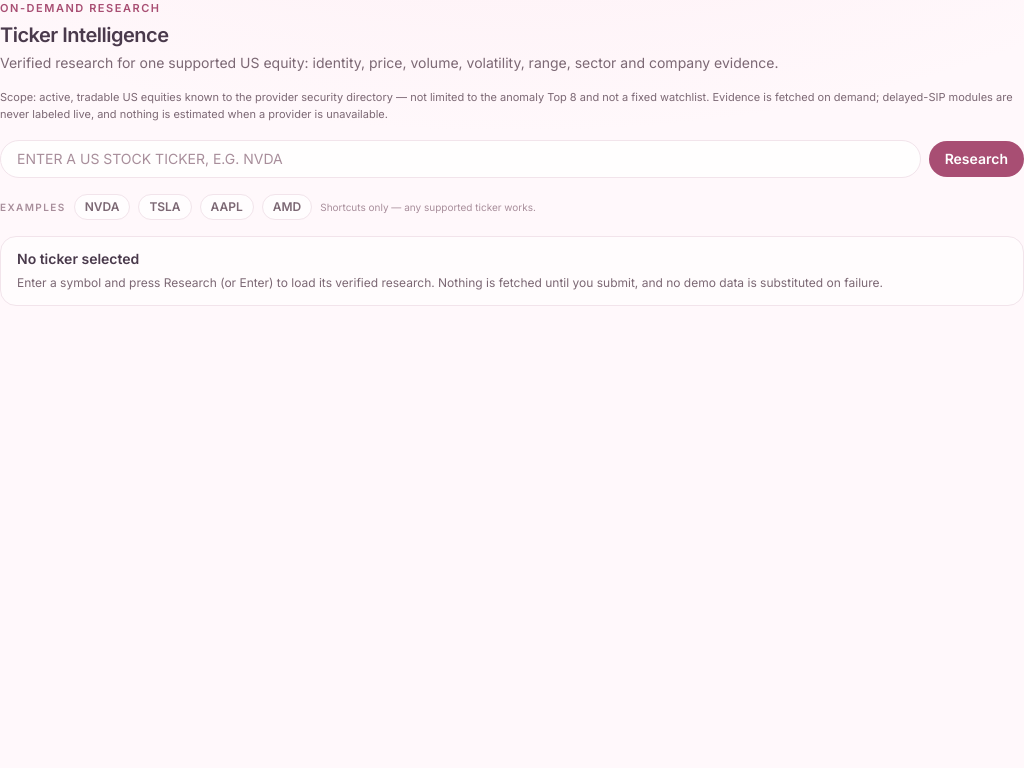
Test case: TickerIntelligence · evidence and warnings › renders the ticker evidence facts with id, domain, freshness and source version
The width and height of the screenshot is (1024, 768).
Type "NVDA" into the field named "US stock ticker symbol". click: (460, 159)
box: [0, 140, 921, 178]
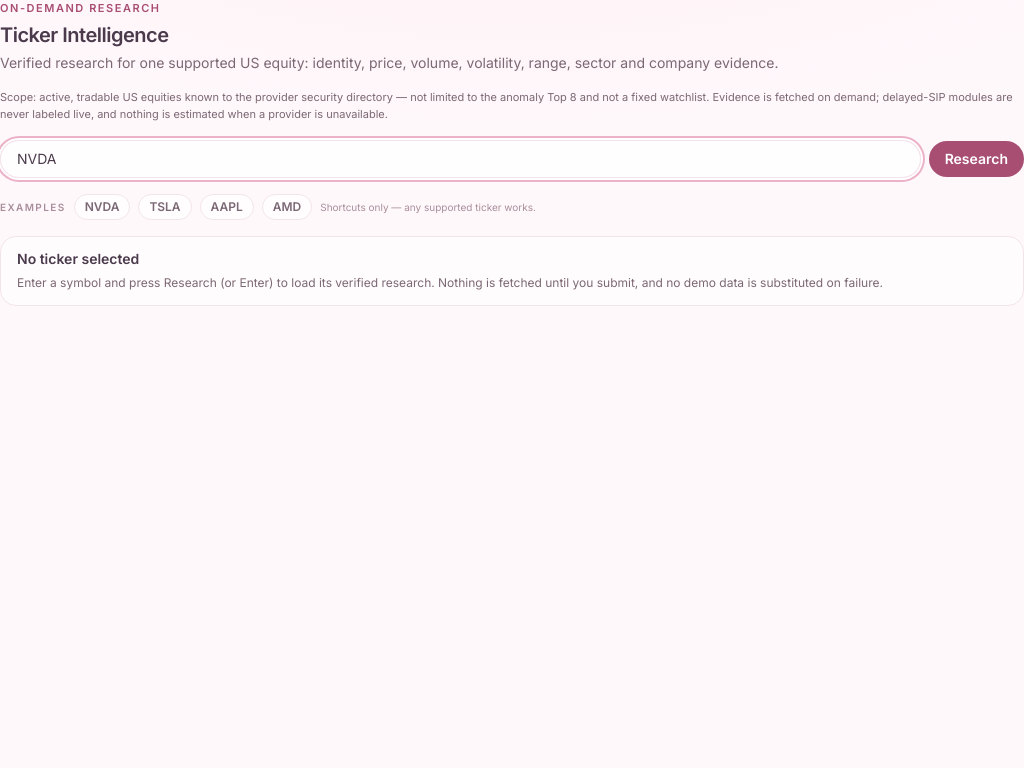
Click the button "Research". click: (976, 159)
box: [929, 141, 1023, 177]
(page scrolled)
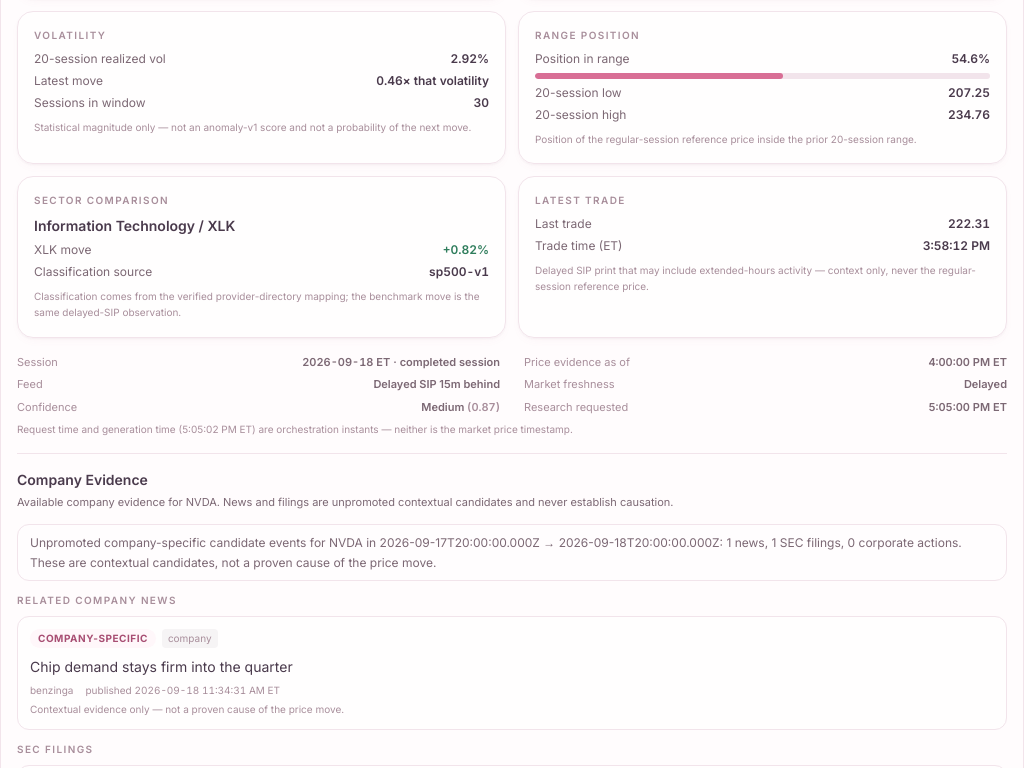
Expected: the text "Delayed" is shown, [964, 376, 1007, 392]
